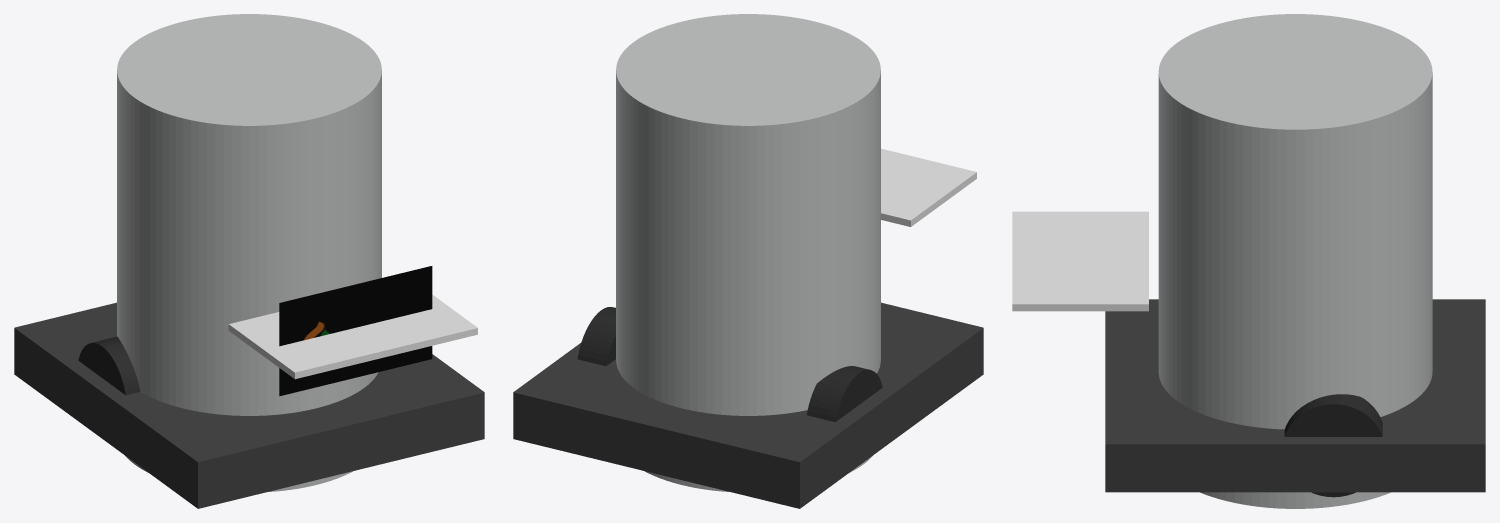
File: mel-tanker.glb
3 renders of one model, left to right at view 1: azimuth 30°, elevation 25°; view 2: azimuth 150°, elevation 25°; view 3: azimuth 270°, elevation 25°, orthographic. The views are drawn at different scales.
Parts seen in each view (by area): view 1: g0, g1, g3, g2, g4; view 2: g0, g1, g2, g4, g5; view 3: g0, g1, g2, g5.
Boxes of the visible parts, x1,y1,x2,y2 form: g0: [117, 14, 381, 491]; g1: [14, 302, 484, 508]; g3: [279, 266, 432, 396]; g2: [228, 294, 477, 379]; g4: [78, 336, 140, 395]; g0: [616, 14, 880, 491]; g1: [513, 302, 983, 508]; g2: [881, 148, 976, 226]; g4: [807, 366, 882, 422]; g5: [577, 307, 615, 366]; g0: [1158, 14, 1432, 508]; g1: [1105, 299, 1485, 492]; g2: [1012, 211, 1148, 311]; g5: [1284, 394, 1382, 497].
Bounding box in the file's own units: 1.8 × 2.2 × 2.49.
Materials: 5 (1 with a texture image).
